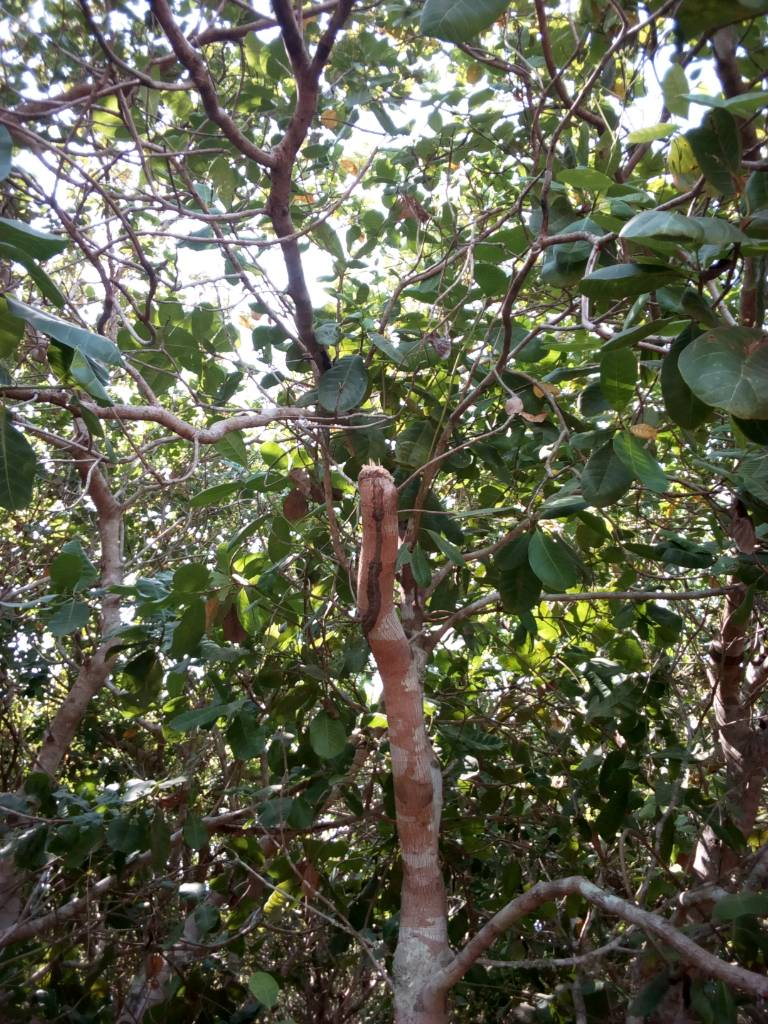Analepse trifasciata: (344, 439, 430, 519)
